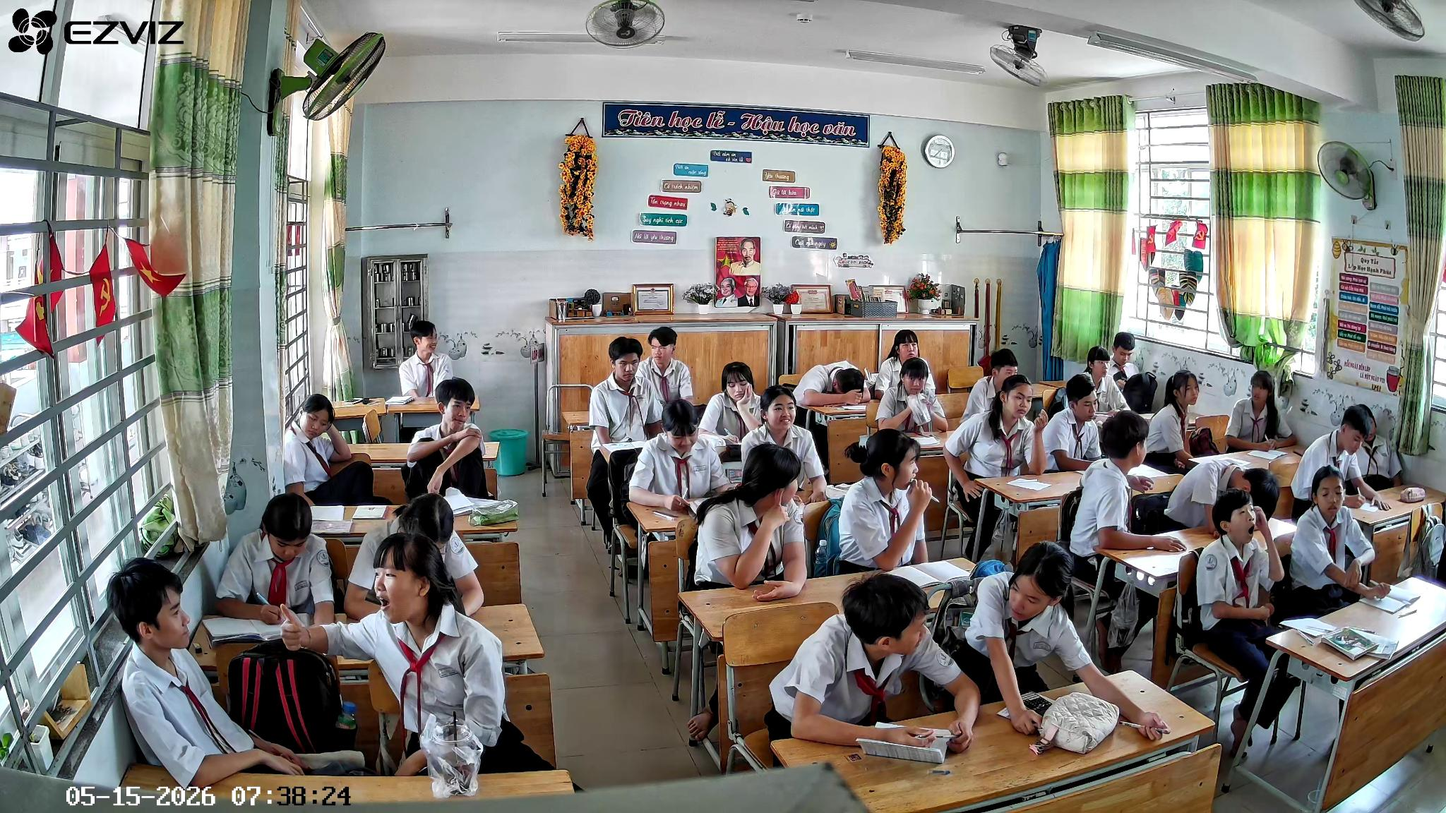person: (278, 533, 556, 776), (104, 557, 365, 787), (954, 540, 1170, 743), (763, 572, 981, 756), (1070, 410, 1188, 668), (1191, 489, 1301, 752), (943, 374, 1049, 562), (689, 443, 810, 602), (343, 495, 486, 620), (585, 336, 663, 553), (214, 493, 337, 627), (1284, 466, 1391, 619), (839, 428, 932, 572), (627, 399, 736, 518), (280, 393, 392, 507), (1291, 410, 1394, 523), (403, 377, 490, 502), (740, 385, 826, 508), (1164, 460, 1280, 535), (792, 361, 873, 450), (1142, 370, 1202, 473), (1226, 370, 1298, 454), (874, 356, 948, 435), (1042, 374, 1101, 473), (697, 362, 763, 445), (638, 326, 693, 419), (1346, 402, 1404, 490), (871, 330, 935, 402), (959, 348, 1019, 423), (397, 320, 453, 399), (1074, 346, 1126, 416), (1107, 332, 1142, 383)
